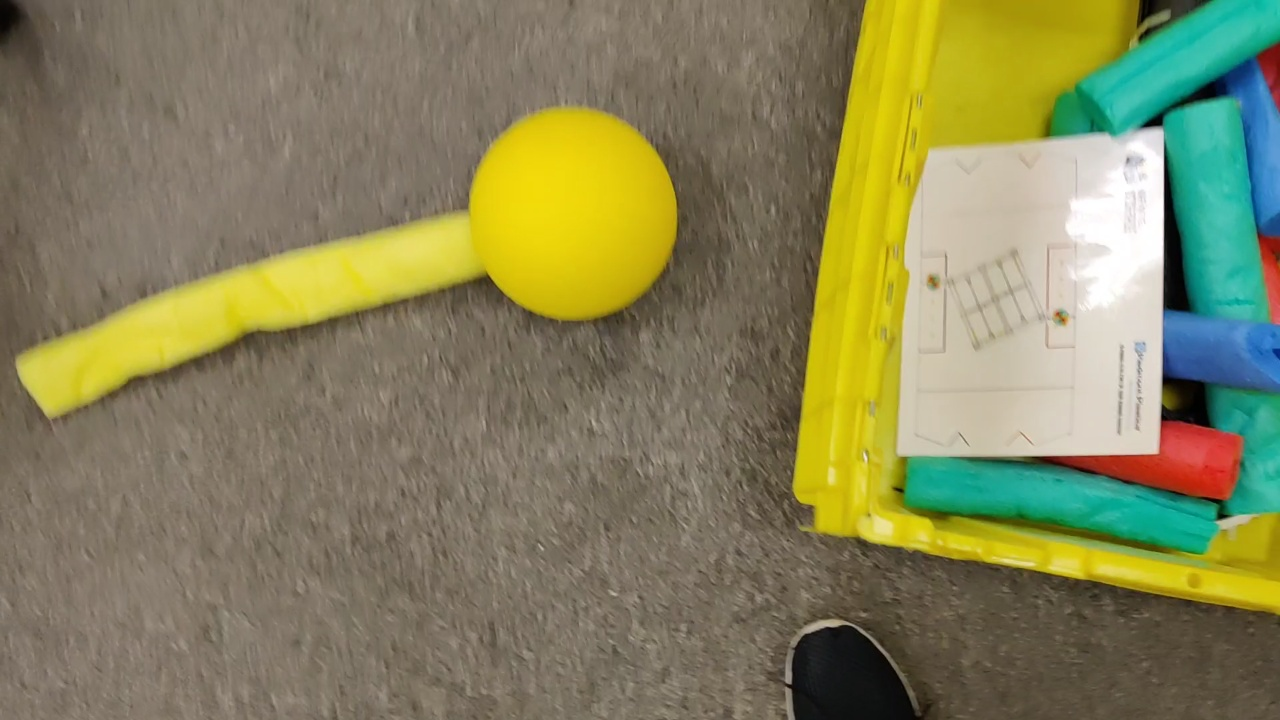Ball: (470, 107, 678, 320)
